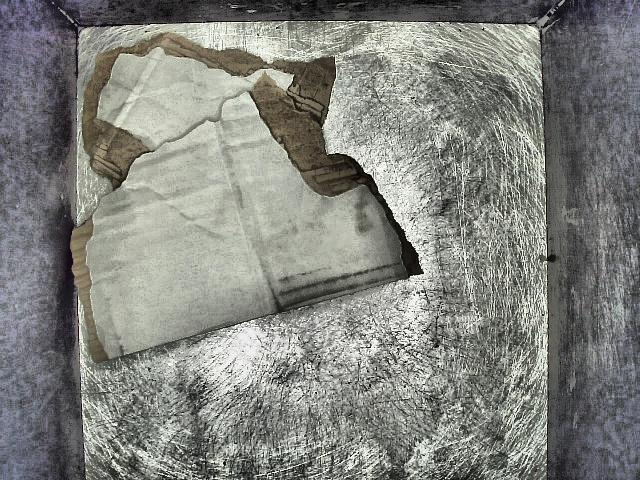Paper: (31, 28, 424, 374)
